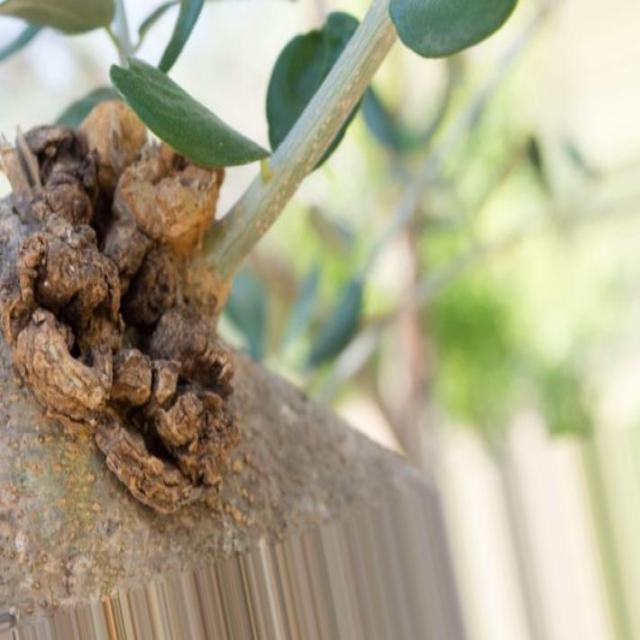Tuberculosis: (0, 101, 243, 527)
